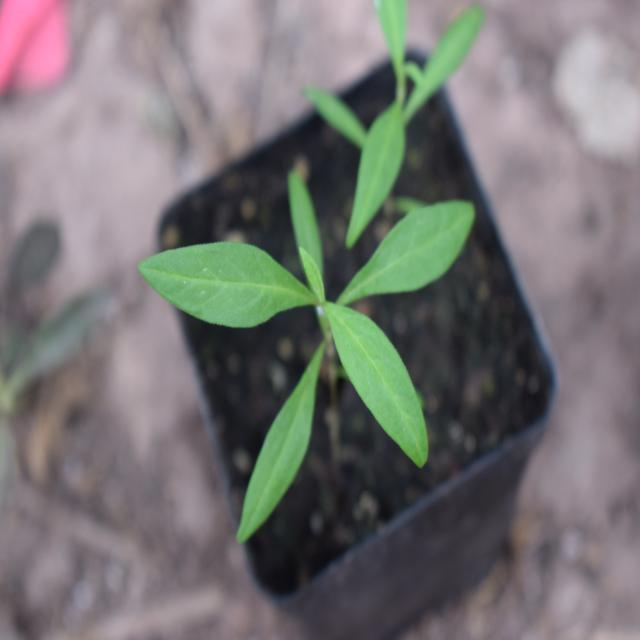white_smart_weed: (150, 173, 487, 542)
